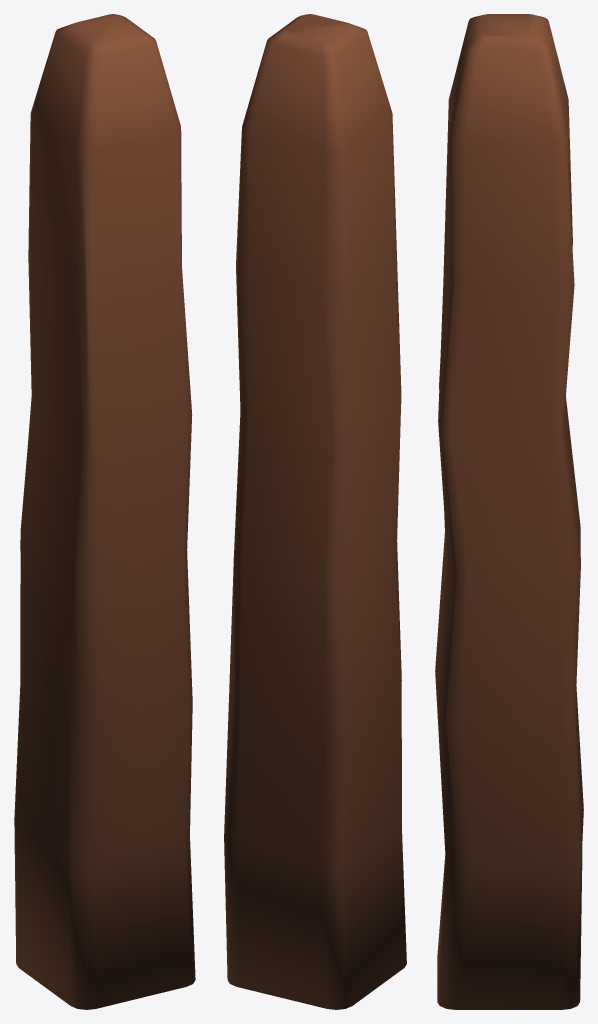
File: tronco completo.fbx
3 renders of one model, left to right at view 1: azimuth 30°, elevation 25°; view 2: azimuth 150°, elevation 25°; view 3: azimuth 270°, elevation 25°, orthographic.
Visible parts, largest first — view 1: Tronco Completo; view 2: Tronco Completo; view 3: Tronco Completo.
Part boxes in pixels (left/top/right/bottom): Tronco Completo: left=14, top=14, right=195, bottom=1009; Tronco Completo: left=224, top=14, right=406, bottom=1009; Tronco Completo: left=435, top=14, right=583, bottom=1009.
Bounding box in the file's own units: 100 × 721 × 102.
